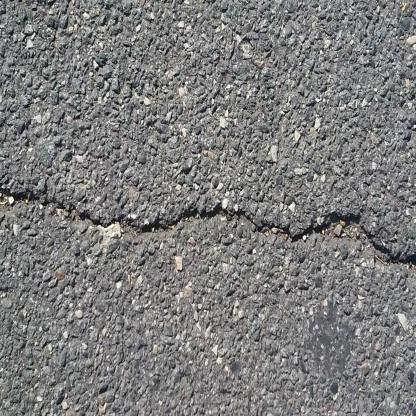Cracks: (0, 98, 416, 269)
